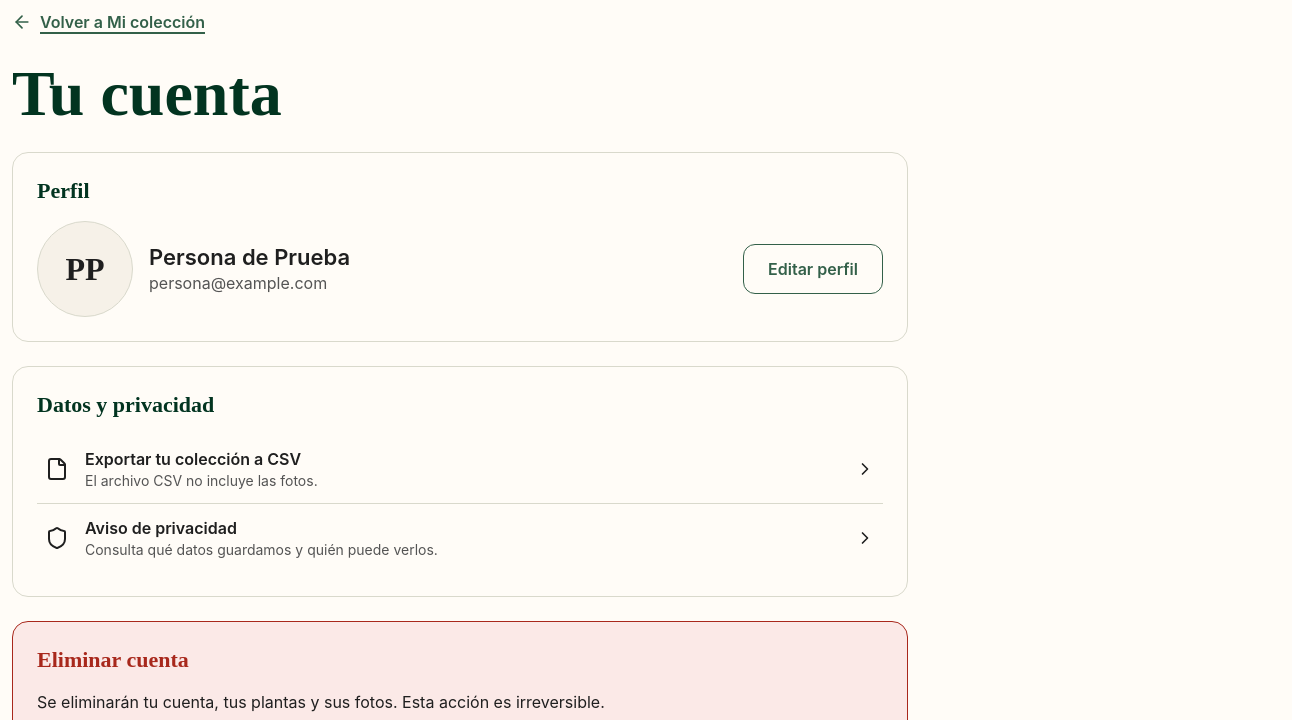
Scenario: AccountPage: rediseño de «Tu cuenta» (#214) › exportar sin plantas: el archivo solo con la cabecera, como en «Mi colección»
Click the button "Exportar tu colección a CSV".
click(193, 459)  # box top-left (37, 435), bottom-right (883, 503)
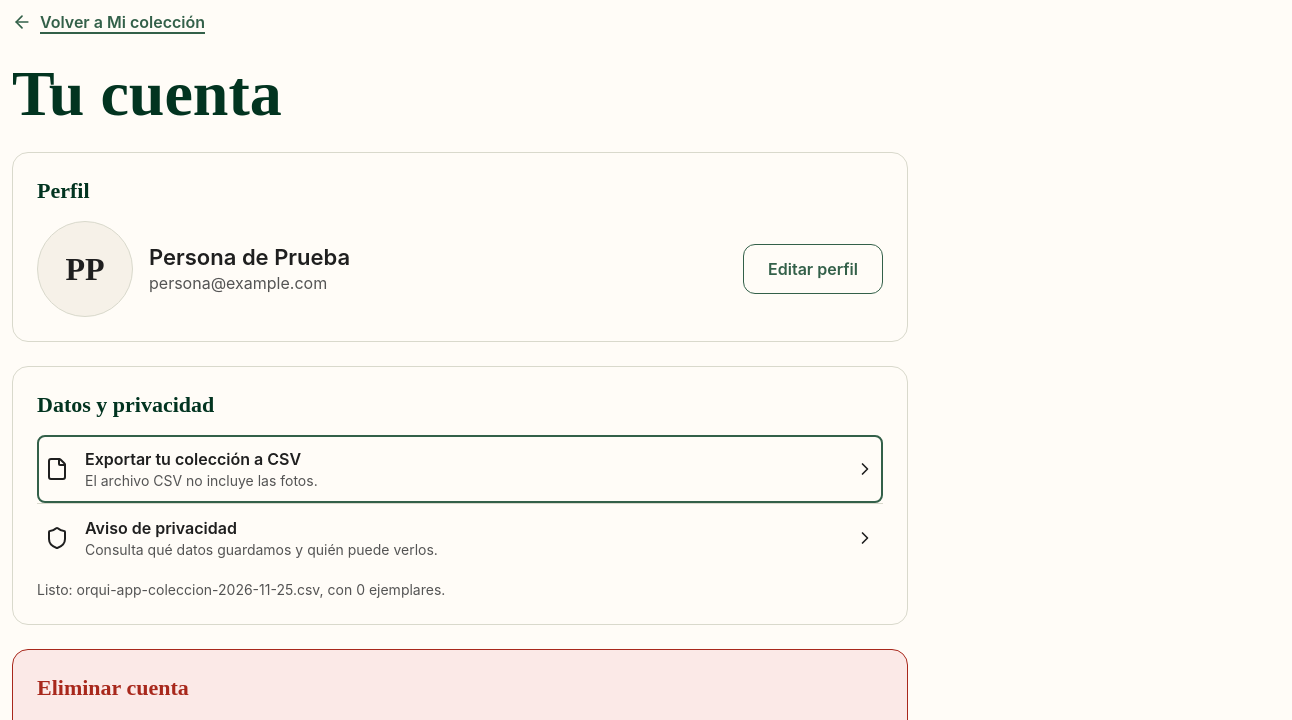
Result: the message shows "con 0 ejemplares." at top-left (37, 581), bottom-right (445, 598)
